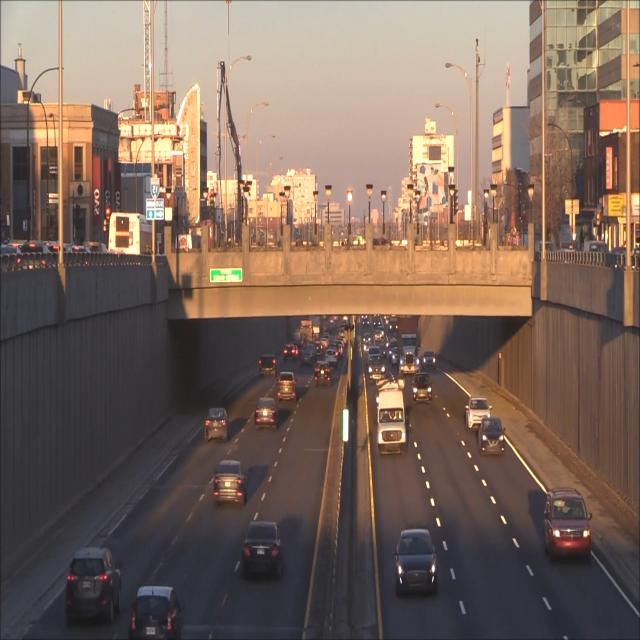Vehicle: (62, 550, 120, 626), (126, 580, 183, 640), (542, 489, 590, 560), (391, 529, 436, 594), (239, 522, 282, 579), (375, 388, 405, 456), (210, 463, 250, 509), (397, 317, 419, 377), (475, 418, 504, 457), (462, 395, 490, 430), (204, 405, 228, 443), (253, 398, 276, 429), (275, 370, 296, 403), (410, 372, 432, 402), (366, 354, 386, 383), (312, 360, 330, 388), (258, 354, 276, 377), (421, 350, 436, 370)
